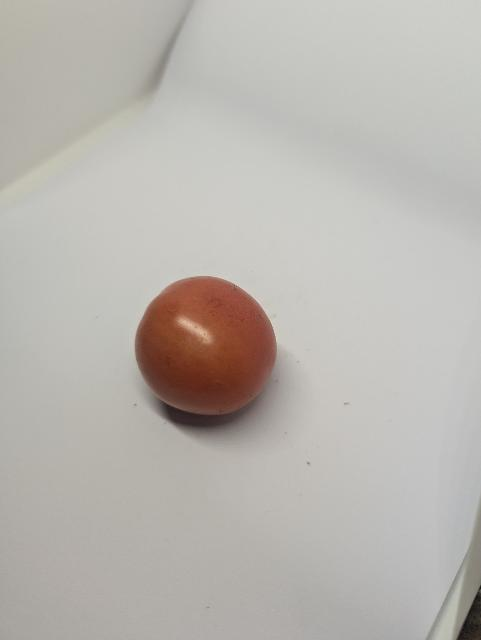red: (129, 270, 283, 427)
